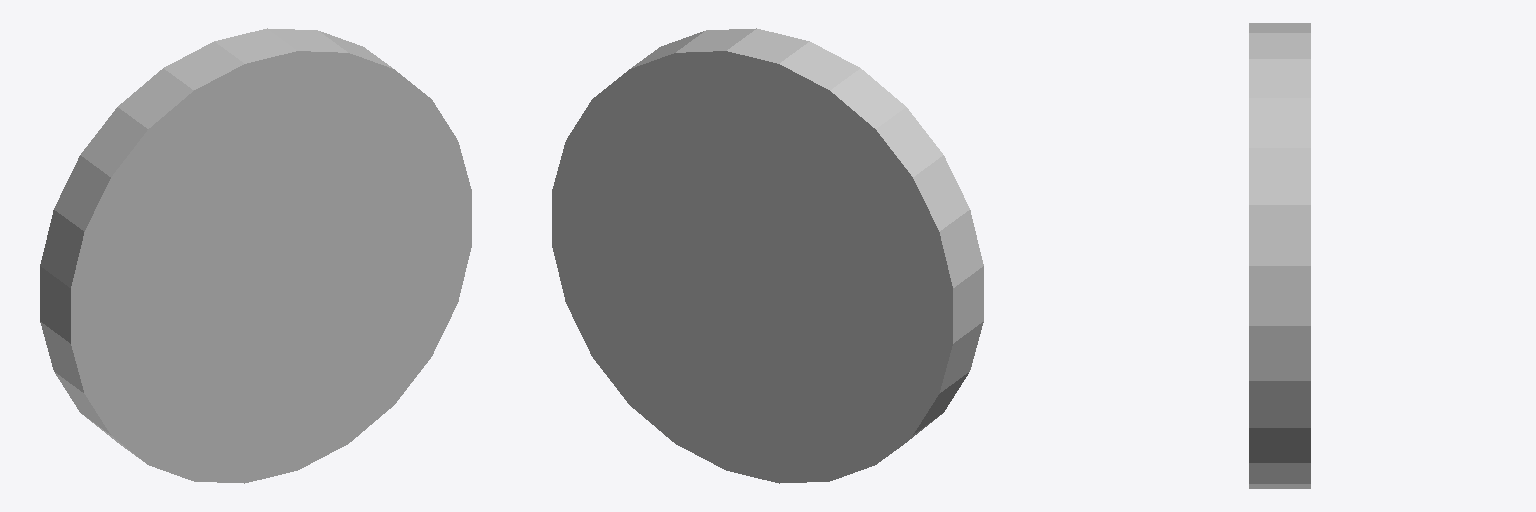
Rendered from coin.obj.
The picture shows the model from 3 angles: view 1: azimuth 30°, elevation 25°; view 2: azimuth 150°, elevation 25°; view 3: azimuth 270°, elevation 25°; orthographic projection.
Visible parts, largest first — view 1: Circle; view 2: Circle; view 3: Circle.
Part boxes in pixels (left/top/right/bottom): Circle: left=40, top=28, right=471, bottom=483; Circle: left=552, top=28, right=983, bottom=483; Circle: left=1249, top=23, right=1310, bottom=488.
Size of the model in its own units: 14.28 by 14.28 by 1.9.